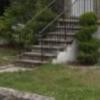stairs: (10, 15, 96, 69)
